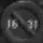No waiting: (2, 3, 39, 37)
